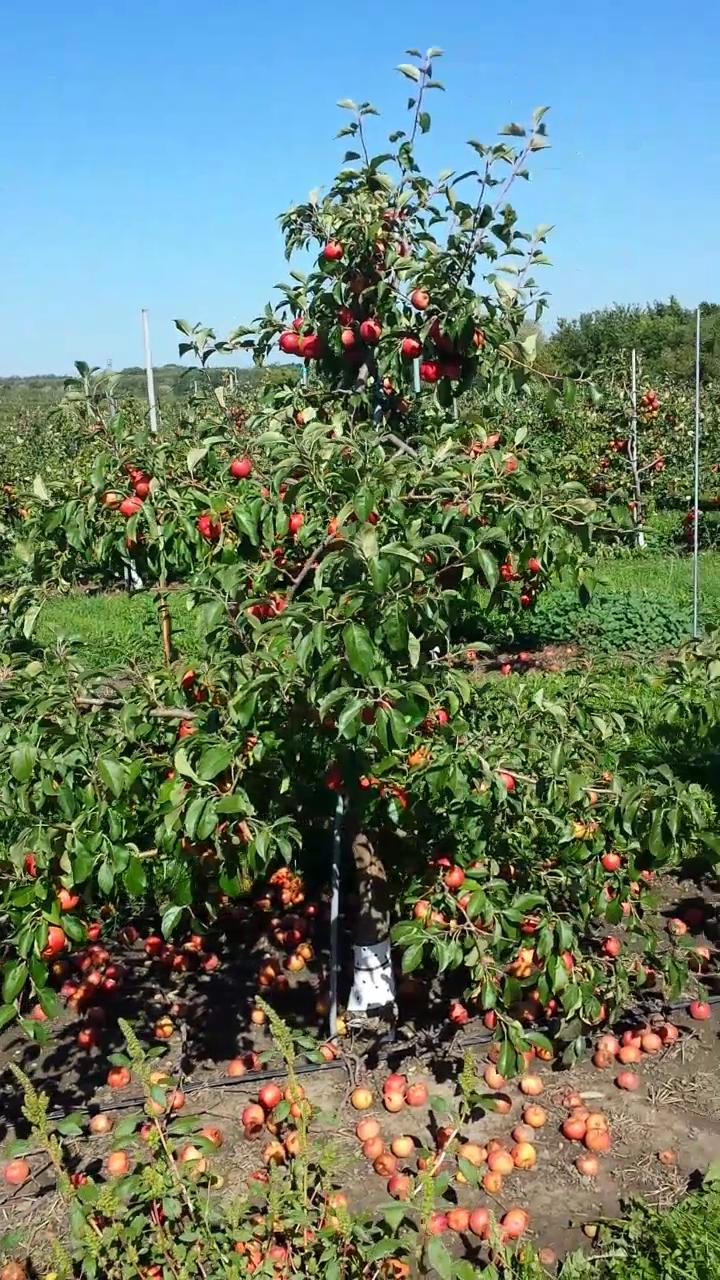Apple: (504, 947, 545, 980), (213, 818, 252, 847), (42, 925, 66, 956), (247, 597, 283, 617), (180, 834, 212, 856), (572, 817, 597, 841), (342, 342, 366, 365), (382, 785, 408, 806), (55, 885, 77, 909), (199, 514, 221, 535), (360, 319, 380, 342), (444, 862, 464, 885), (279, 332, 299, 353), (420, 359, 439, 381), (119, 495, 141, 514), (300, 333, 318, 356), (133, 474, 150, 498), (407, 747, 430, 763), (441, 359, 460, 378), (231, 458, 251, 476), (426, 908, 446, 926), (402, 336, 418, 358), (326, 764, 341, 787), (496, 769, 516, 786), (410, 290, 428, 308), (602, 852, 621, 868), (288, 511, 303, 531), (125, 465, 142, 482), (26, 851, 37, 876), (413, 900, 428, 918), (325, 241, 342, 256), (337, 307, 352, 324), (444, 500, 467, 511), (391, 400, 407, 415), (360, 707, 375, 723), (560, 949, 572, 969), (359, 775, 382, 785), (433, 709, 448, 724), (103, 491, 117, 506), (179, 721, 194, 735), (500, 562, 512, 579), (290, 315, 305, 328), (606, 885, 618, 901), (383, 376, 393, 395), (436, 334, 450, 347), (505, 455, 518, 469), (458, 893, 471, 907), (340, 330, 353, 343), (486, 433, 499, 446), (528, 556, 538, 571), (473, 328, 482, 344), (586, 790, 599, 801), (430, 319, 438, 336), (328, 517, 337, 532), (193, 688, 204, 700), (475, 913, 484, 927), (124, 535, 134, 547), (182, 669, 194, 679), (521, 921, 535, 929), (369, 510, 379, 521), (438, 855, 449, 865), (166, 768, 175, 778), (424, 552, 433, 561), (520, 594, 529, 603), (376, 240, 384, 250), (260, 486, 268, 495), (273, 546, 283, 553), (297, 411, 303, 421), (425, 718, 432, 725), (280, 489, 285, 497)
